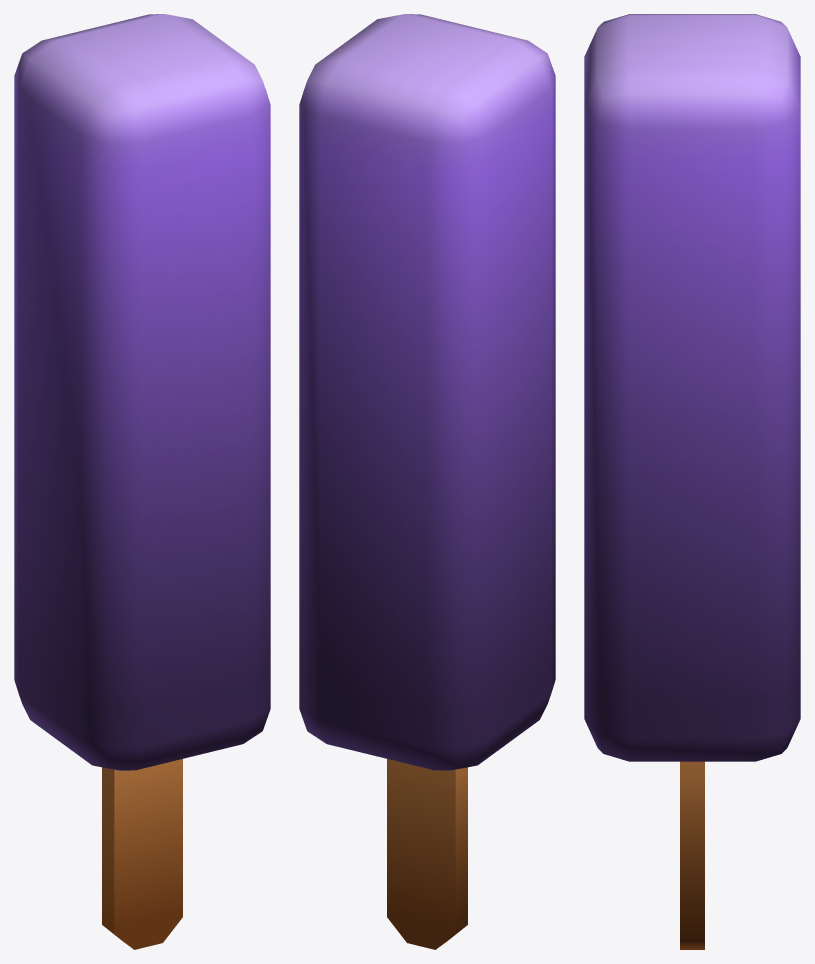
Rendered from m_SquarePopsicle10.fbx.
3 renders of one model, left to right at view 1: azimuth 30°, elevation 25°; view 2: azimuth 150°, elevation 25°; view 3: azimuth 270°, elevation 25°, orthographic.
Visible parts, largest first — view 1: m_SquarePopsicle10; view 2: m_SquarePopsicle10; view 3: m_SquarePopsicle10.
Part boxes in pixels (bbox=[...]): m_SquarePopsicle10: bbox=[14, 14, 270, 949]; m_SquarePopsicle10: bbox=[299, 14, 555, 949]; m_SquarePopsicle10: bbox=[584, 14, 800, 949].
Size of the model in its own units: 5 by 23.01 by 5.
